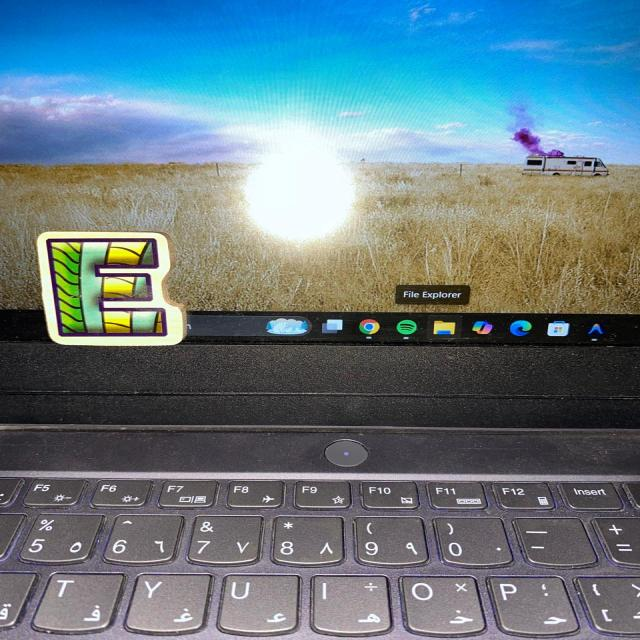E: (37, 231, 185, 346)
